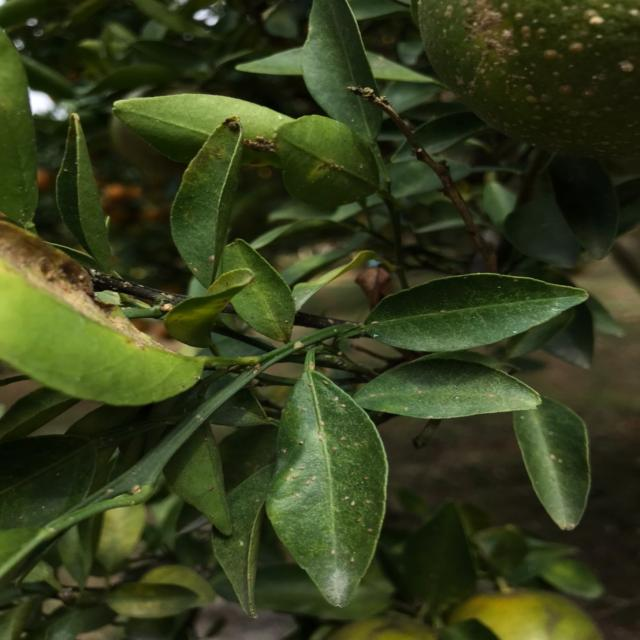canker: (0, 221, 189, 397), (270, 392, 388, 588), (516, 412, 594, 502), (288, 124, 380, 192)
